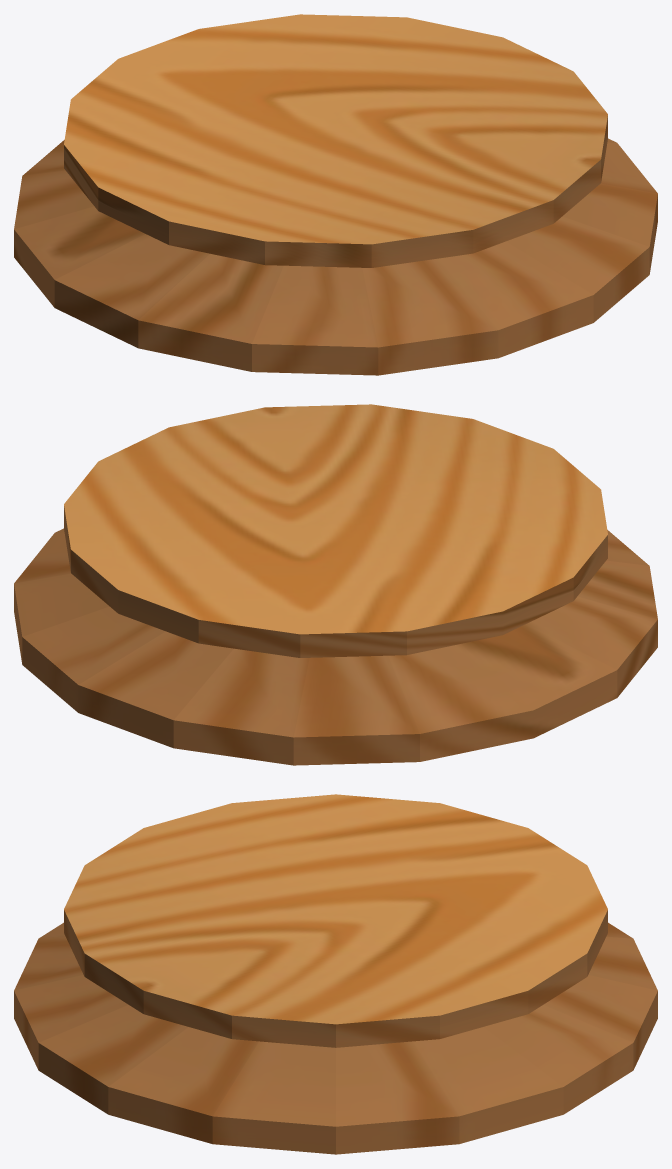
The model's file is BeNguyenLieu.fbx.
3 renders of one model, top to bottom at view 1: azimuth 30°, elevation 25°; view 2: azimuth 150°, elevation 25°; view 3: azimuth 270°, elevation 25°, orthographic.
Parts seen in each view (by area): view 1: Cylinder.018; view 2: Cylinder.018; view 3: Cylinder.018.
Part boxes in pixels (left/top/right/bottom): Cylinder.018: left=14, top=14, right=657, bottom=375; Cylinder.018: left=14, top=404, right=657, bottom=765; Cylinder.018: left=14, top=794, right=657, bottom=1154.
Bounding box in the file's own units: 158 × 29.49 × 158.
